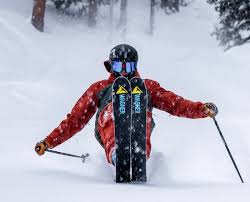skis: (110, 76, 149, 185)
